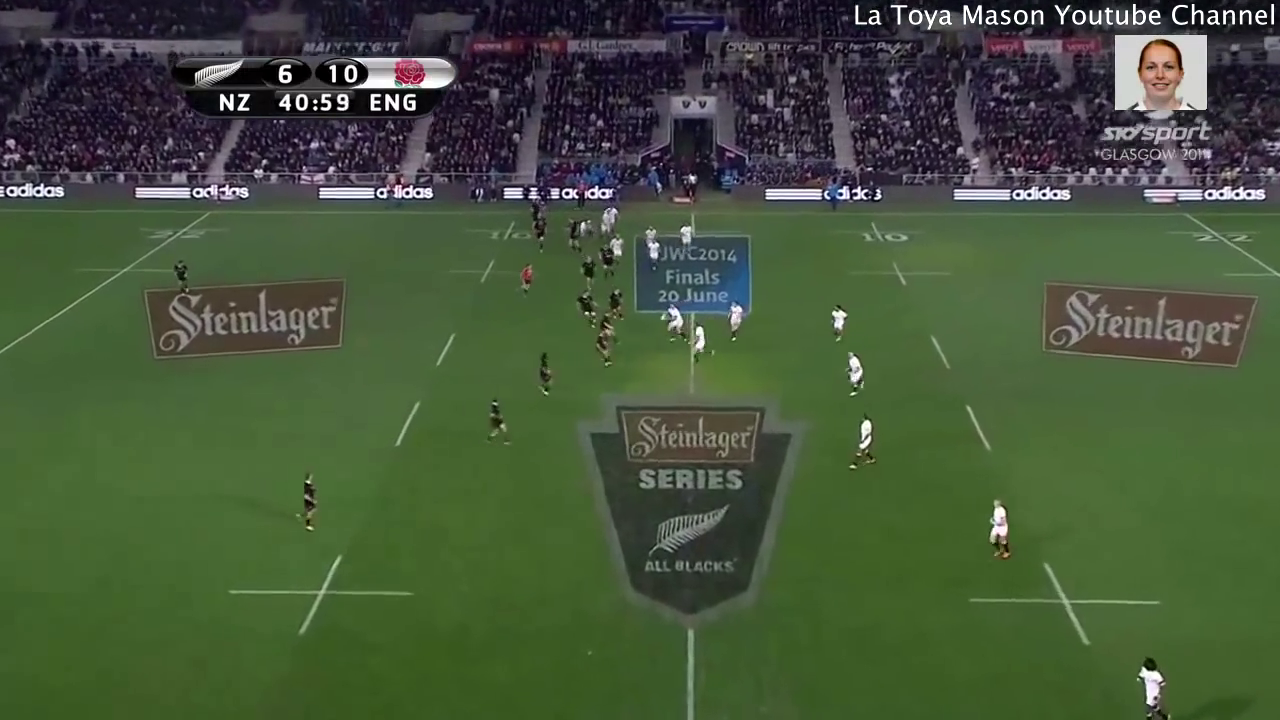10_metre: (968, 560, 1168, 652), (223, 549, 418, 638), (847, 259, 956, 291), (834, 220, 921, 250), (464, 217, 531, 248), (450, 259, 519, 288)
ball: (659, 312, 669, 325)
player: (1129, 654, 1174, 720), (982, 495, 1021, 566), (849, 412, 884, 476), (290, 468, 322, 536), (483, 396, 513, 452), (531, 347, 561, 403), (839, 348, 869, 403), (656, 298, 691, 344), (688, 324, 717, 367), (723, 299, 749, 343), (826, 300, 849, 345), (674, 216, 699, 257), (592, 328, 617, 366), (604, 284, 626, 322), (600, 241, 619, 280), (643, 239, 665, 271), (172, 255, 189, 293), (576, 288, 596, 320), (517, 263, 536, 296), (563, 214, 578, 255), (577, 252, 596, 284), (531, 208, 545, 247), (610, 230, 624, 259), (578, 217, 596, 239), (598, 208, 610, 237), (641, 224, 658, 242), (602, 204, 616, 225)
